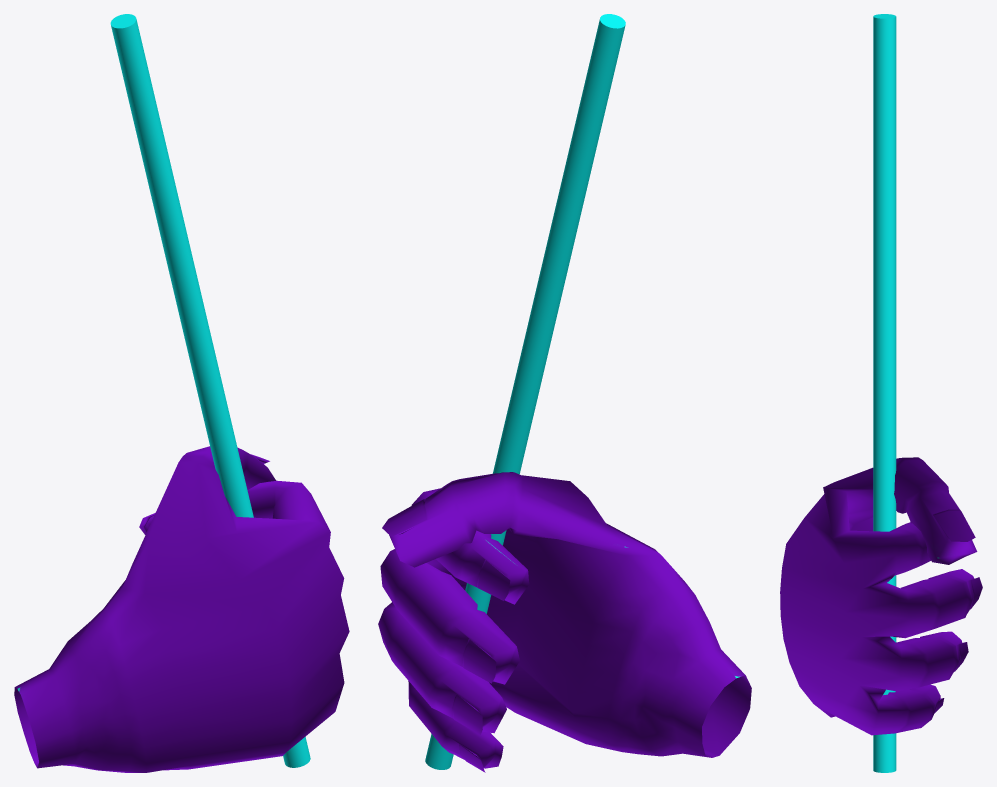
Rendered from MANO_2.fbx.
3 views of the same model, side by side, from view 1: azimuth 30°, elevation 25°; view 2: azimuth 150°, elevation 25°; view 3: azimuth 270°, elevation 25° (orthographic). The views are drawn at different scales.
Visible parts, largest first — view 1: pCylinder3; view 2: pCylinder3; view 3: pCylinder3.
Part boxes in pixels (bbox=[...]): pCylinder3: bbox=[14, 14, 349, 772]; pCylinder3: bbox=[378, 14, 751, 772]; pCylinder3: bbox=[780, 14, 982, 772].
Size of the model in its own units: 2.5 by 5.48 by 1.47.
Materials: 2 (2 with a texture image).
